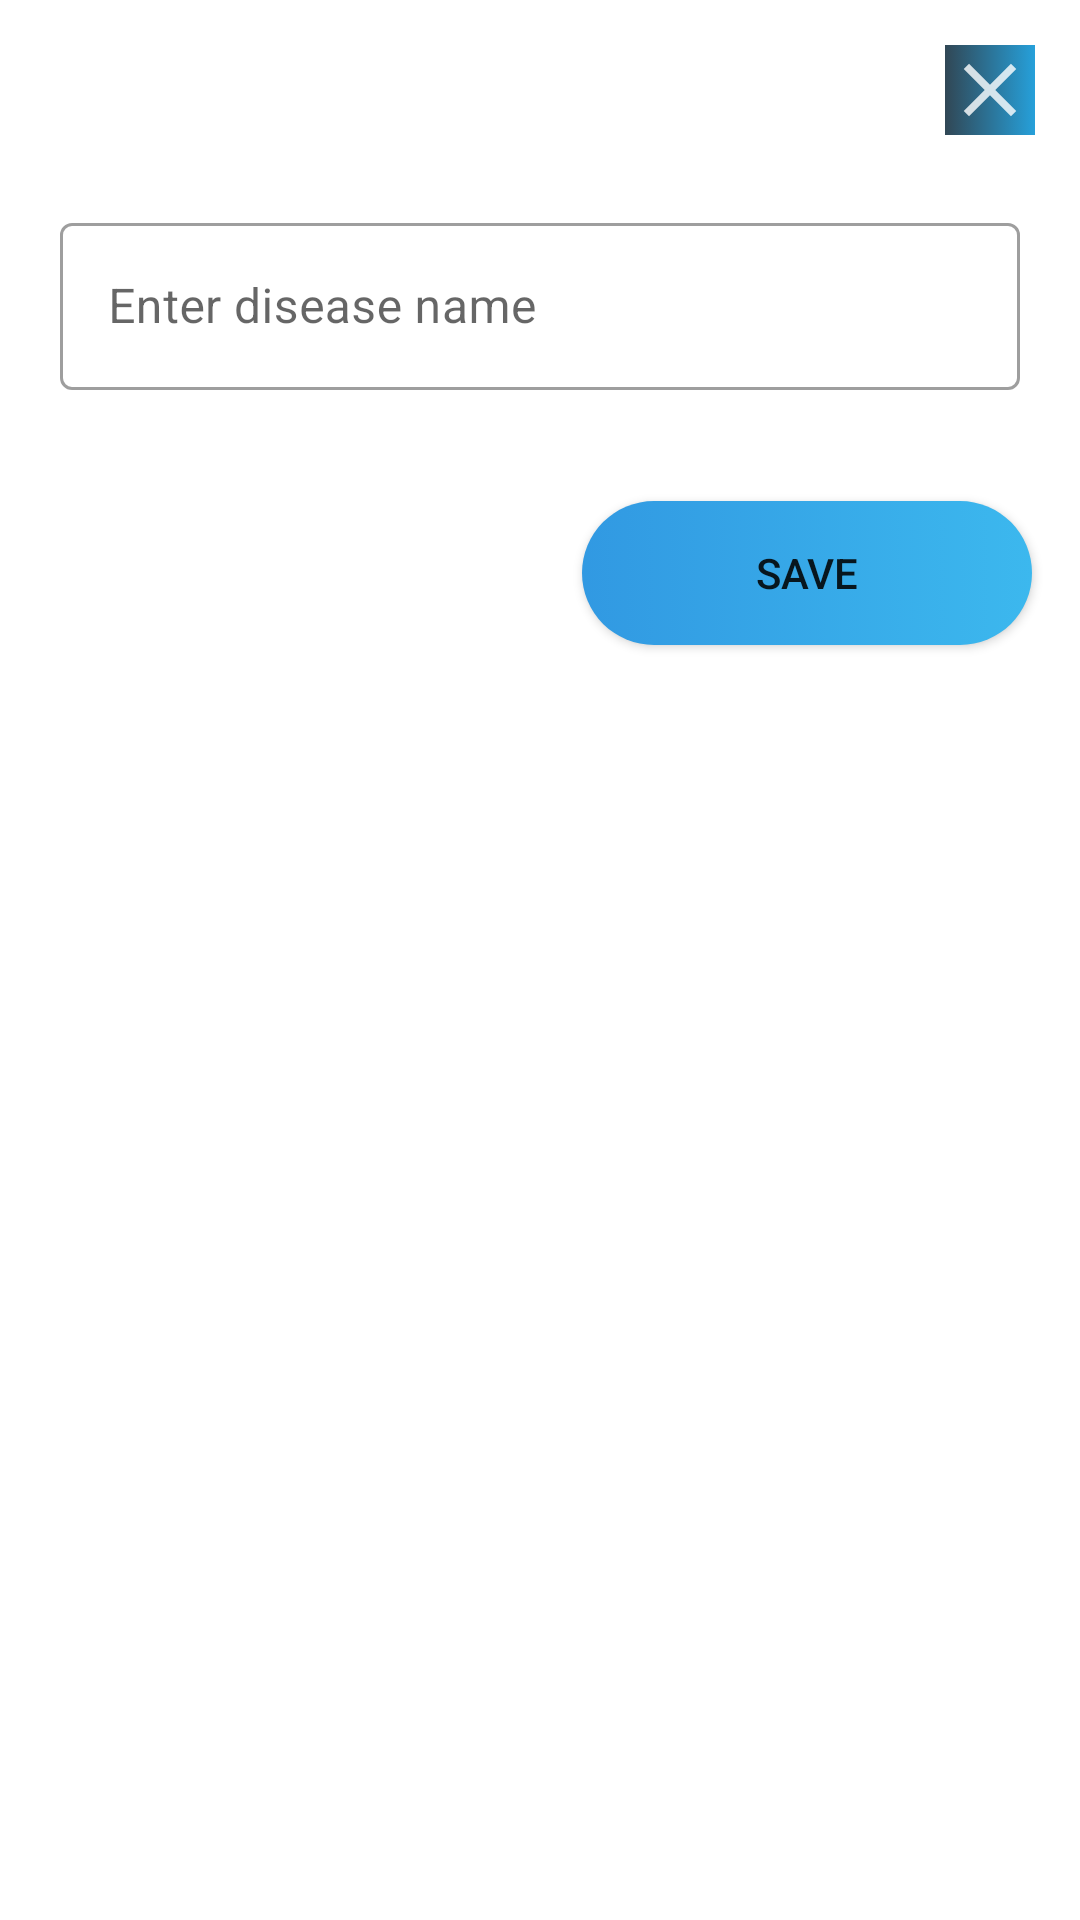

Named icons in this screenshot (1080px x 1920px) and their bounding boxes, box=[x1, y1, x2, y2]:
closeicon: box=[945, 45, 1035, 135]
